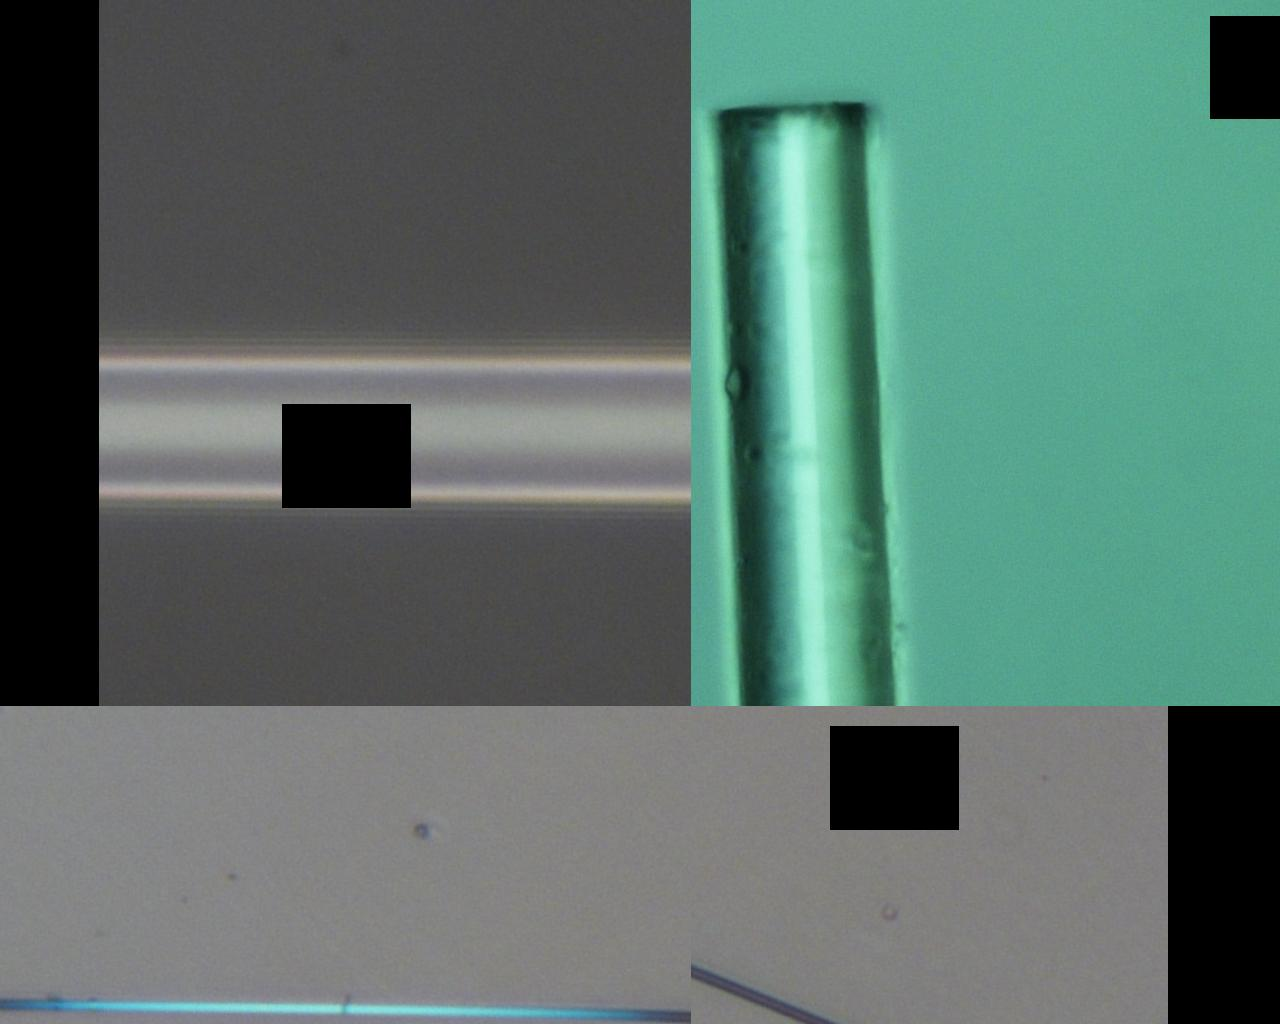fiber: (830, 0, 1280, 460), (775, 460, 1081, 1024), (9, 0, 355, 460), (0, 563, 371, 675)
